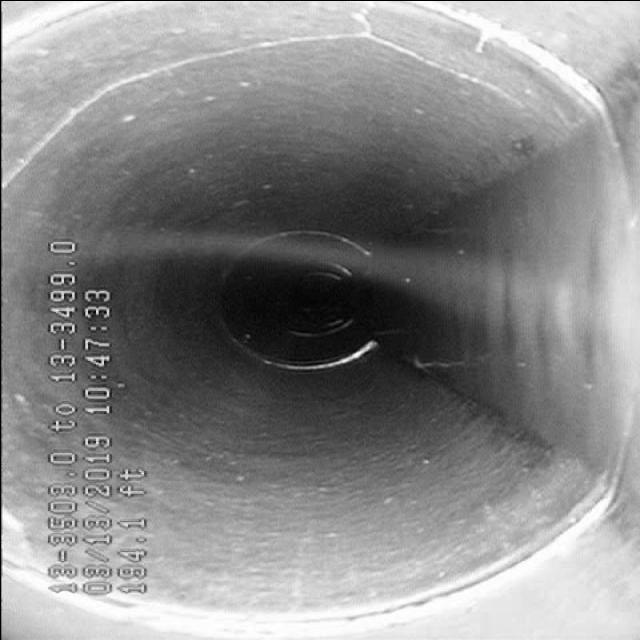Crack: (10, 31, 306, 150), (338, 18, 488, 108)
